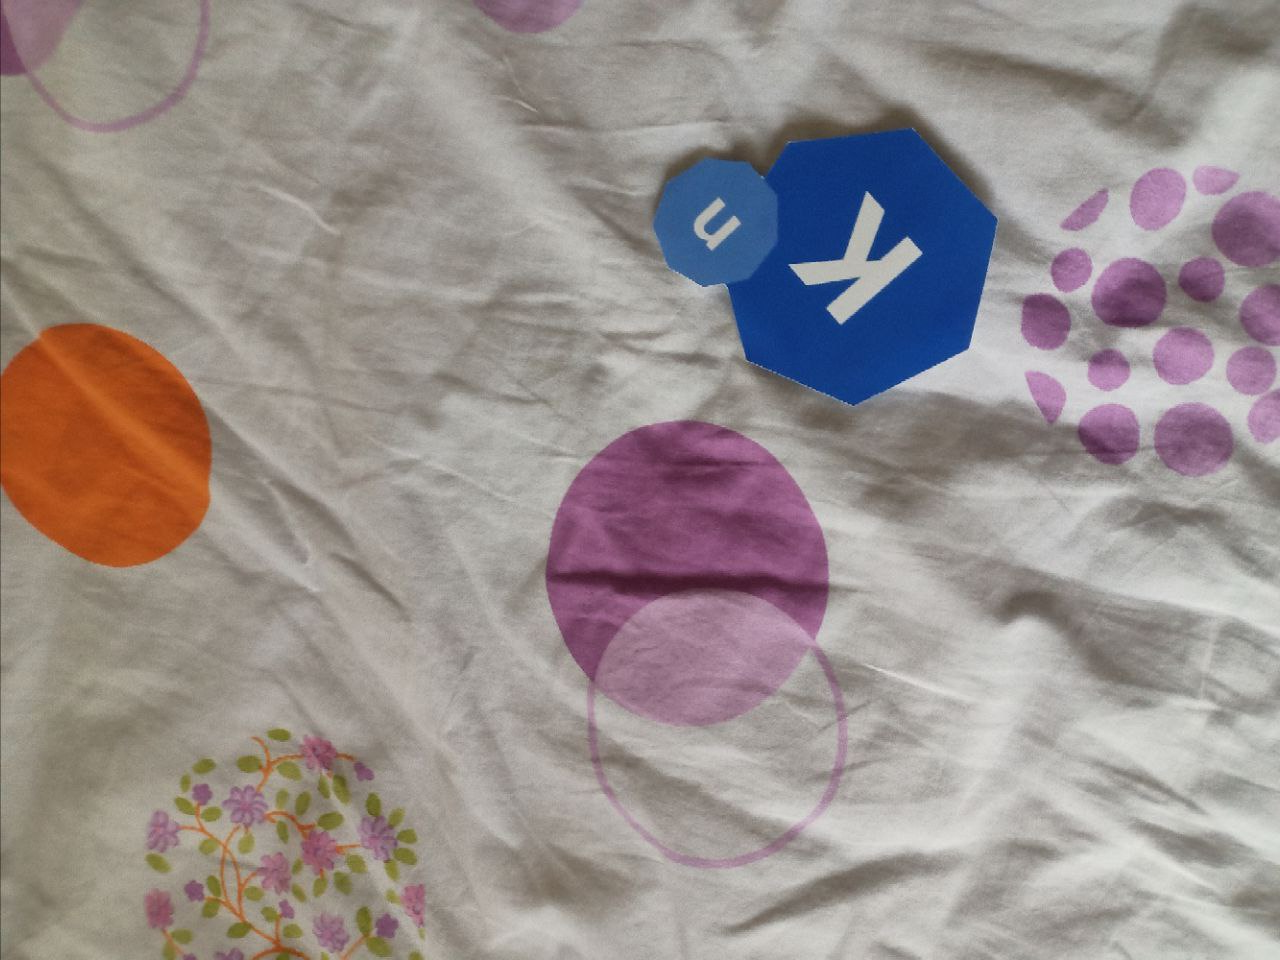knative: (652, 127, 998, 407)
